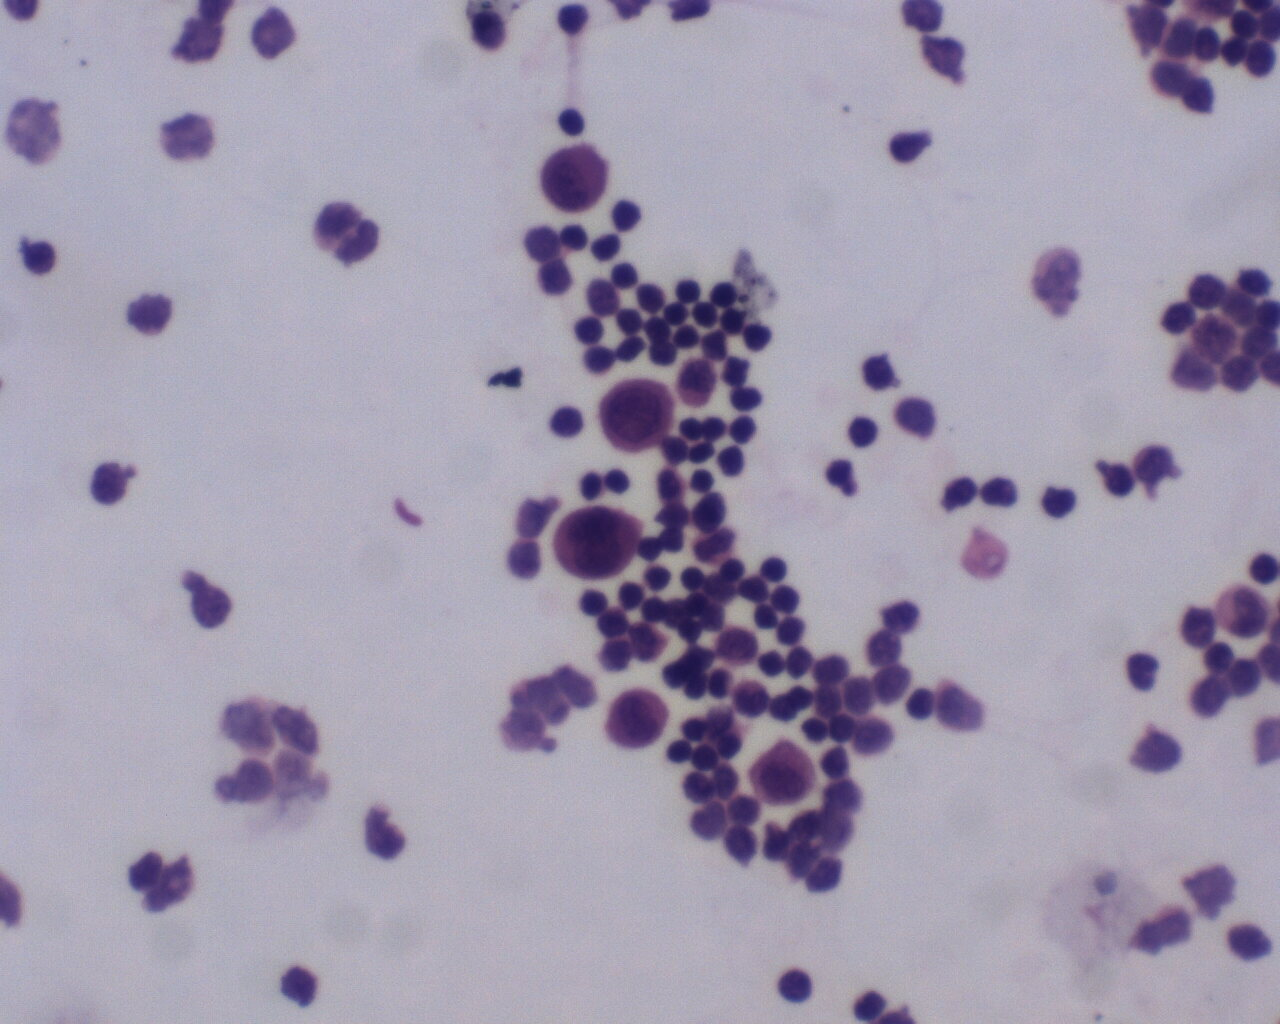ab: (552, 506, 646, 579), (535, 141, 616, 217), (596, 376, 676, 450), (599, 684, 683, 753), (748, 734, 821, 810)
lymph: (772, 962, 819, 1010), (544, 402, 587, 445), (846, 414, 889, 455), (550, 104, 594, 141), (740, 320, 775, 357), (902, 685, 939, 720), (714, 444, 748, 481), (600, 463, 631, 501), (590, 231, 623, 266), (636, 281, 668, 316), (759, 554, 792, 584), (709, 279, 741, 309)
